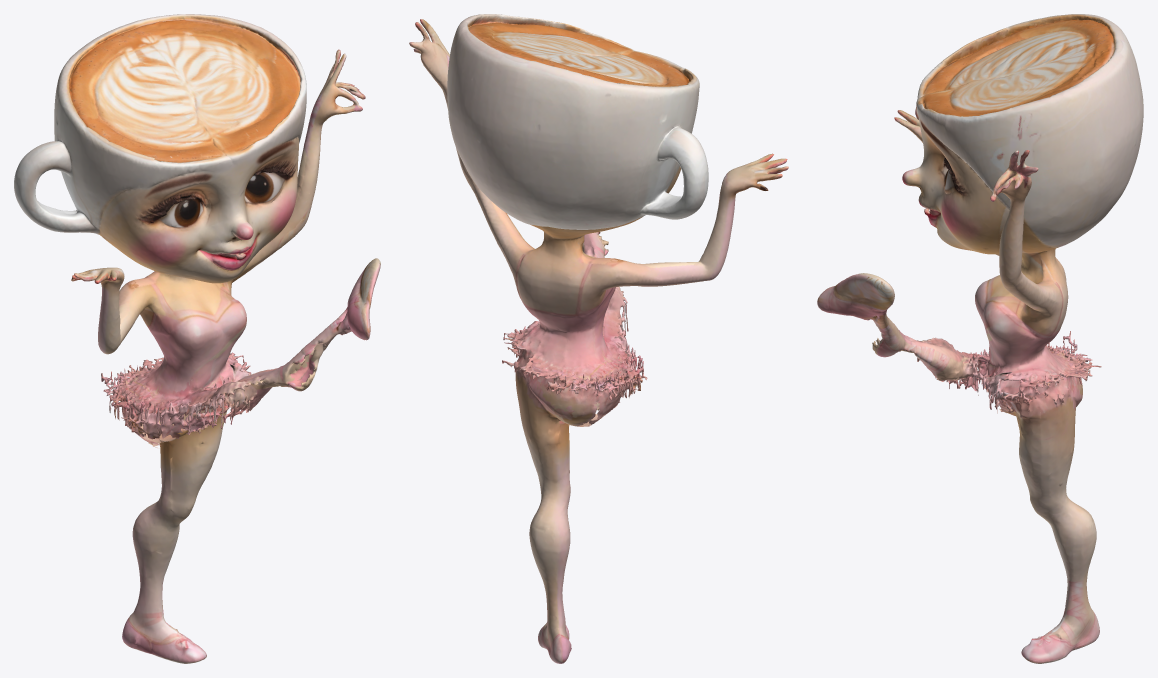
The model's file is Cappuccino_Ballerina.glb.
3 renders of one model, left to right at view 1: azimuth 30°, elevation 25°; view 2: azimuth 150°, elevation 25°; view 3: azimuth 270°, elevation 25°, orthographic.
Size of the model in its own units: 1.12 by 2 by 0.9649.
1 material, 1 textured.
